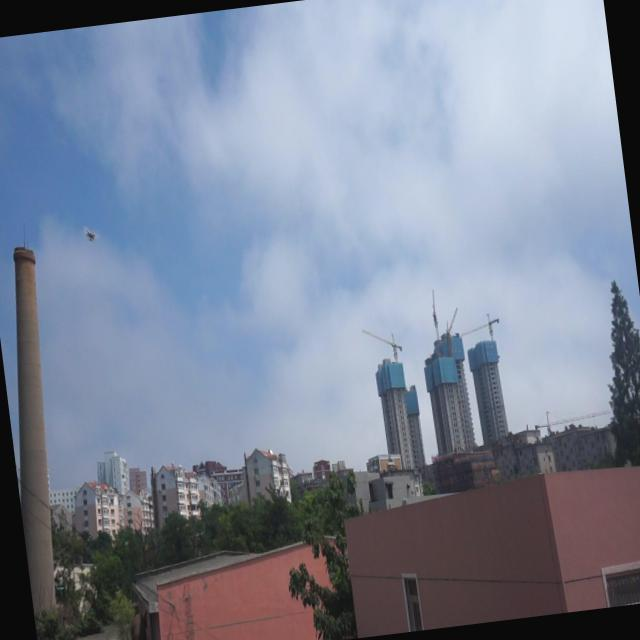drone: (80, 223, 101, 250)
